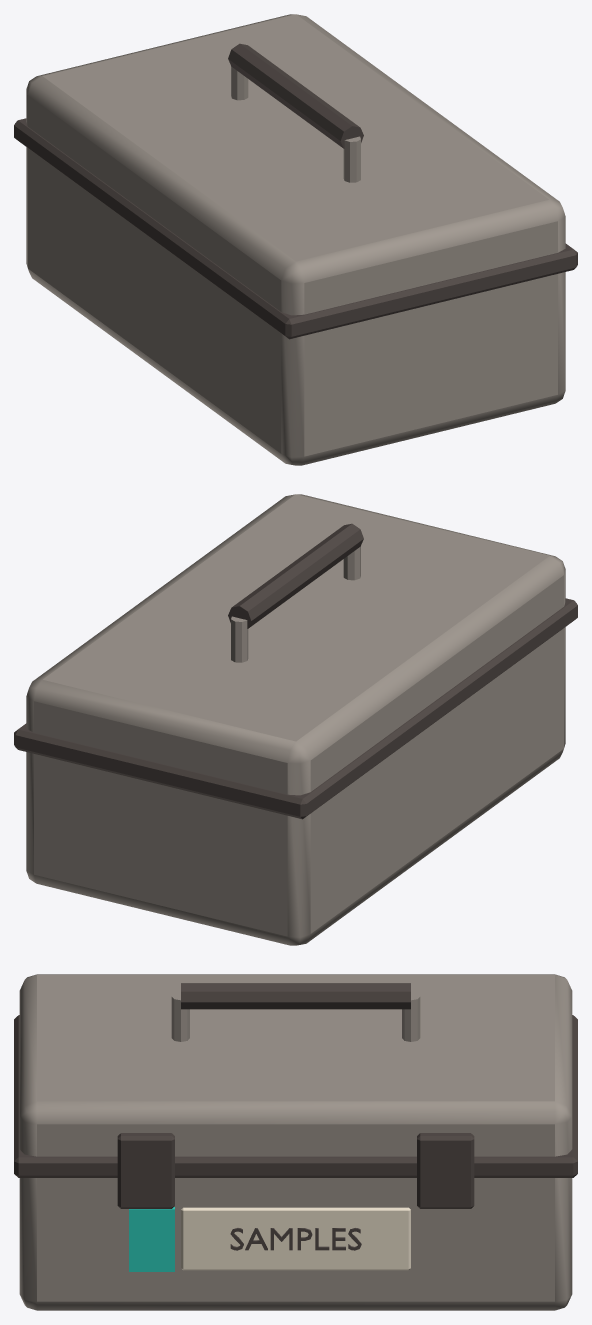
File: prop_sample_box.glb
3 renders of one model, top to bottom at view 1: azimuth 30°, elevation 25°; view 2: azimuth 150°, elevation 25°; view 3: azimuth 270°, elevation 25°, orthographic. The views are drawn at different scales.
Visible parts, largest first — view 1: case-convcol, detail-col; view 2: case-convcol, detail-col; view 3: case-convcol, detail-col.
Part boxes in pixels (box(x1,y1,x2,y2)): case-convcol: box(26, 14, 565, 465); detail-col: box(14, 43, 577, 339); case-convcol: box(26, 494, 565, 945); detail-col: box(14, 523, 577, 819); case-convcol: box(19, 974, 572, 1310); detail-col: box(14, 983, 577, 1271).
Size of the model in its own units: 0.309 by 0.252 by 0.49.
